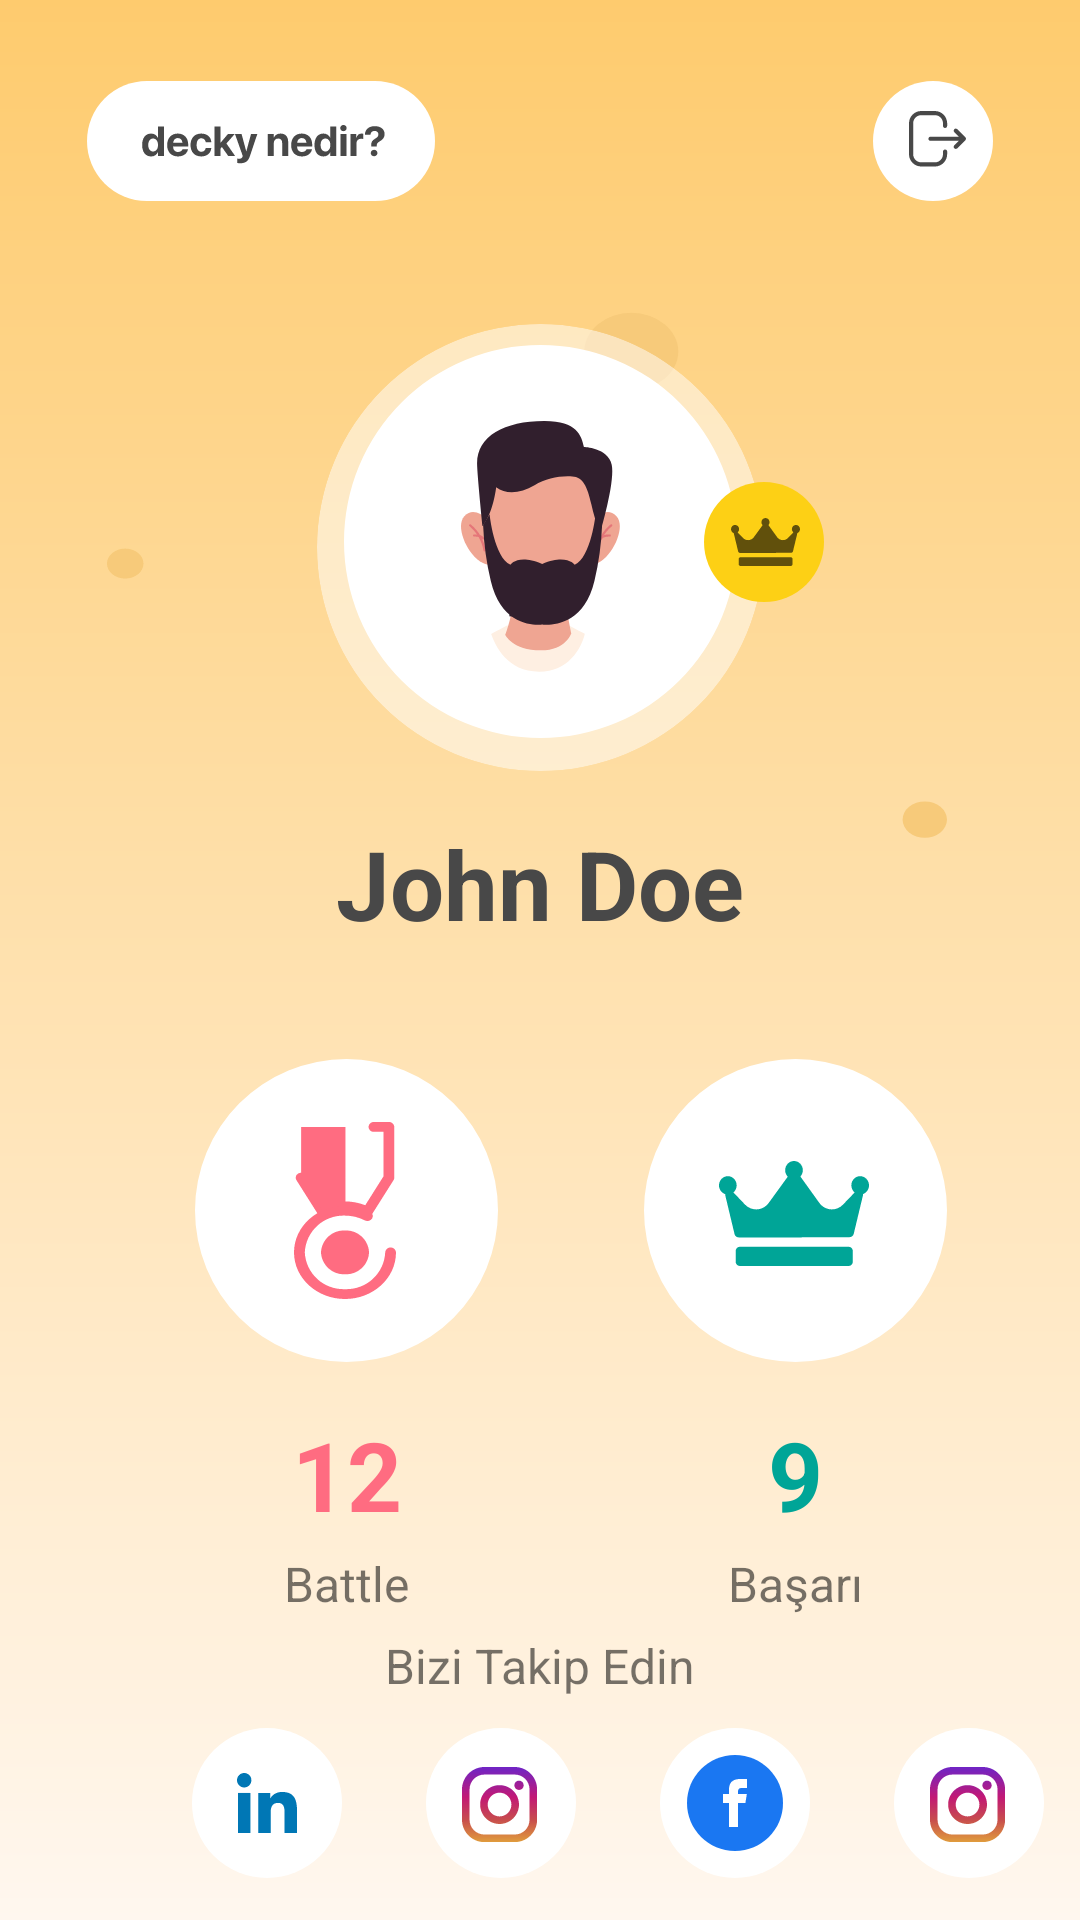

Point at icon controls on the screen. Image size 1080x1920, points as point (x, y).
profile battle: point (346, 1210)
profile photo: point (540, 546)
profile photo crown: point (764, 548)
profile win: point (795, 1210)
